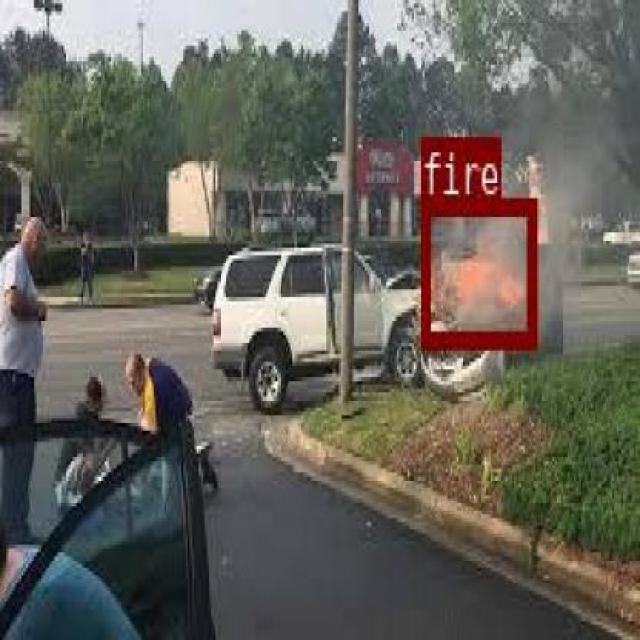Fire: (117, 146, 477, 271)
